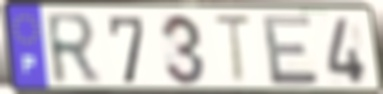3: (158, 12, 207, 89)
4: (324, 15, 369, 87)
7: (107, 14, 146, 86)
E: (259, 13, 321, 88)
R: (43, 11, 104, 89)
T: (211, 13, 255, 88)
